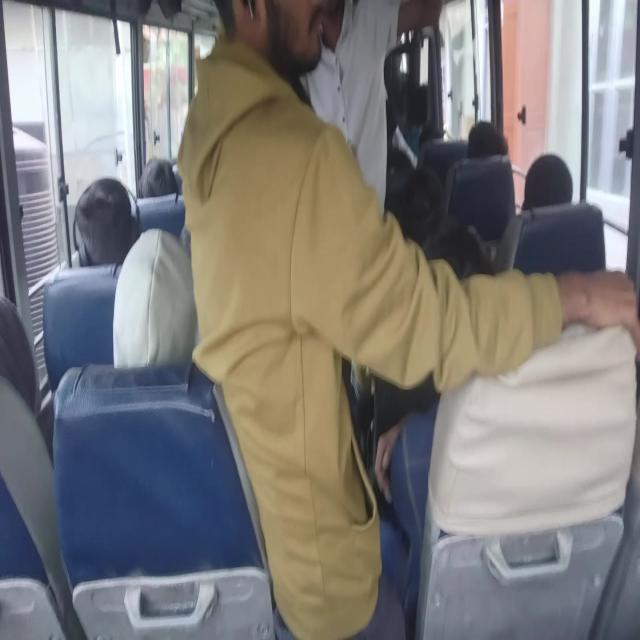person: (147, 0, 365, 399), (112, 228, 196, 373), (41, 266, 124, 394), (432, 243, 508, 322), (74, 177, 139, 269), (0, 294, 38, 419), (399, 183, 450, 255), (136, 193, 186, 244), (528, 158, 570, 209), (468, 118, 508, 166), (137, 157, 180, 200), (406, 80, 429, 136)
